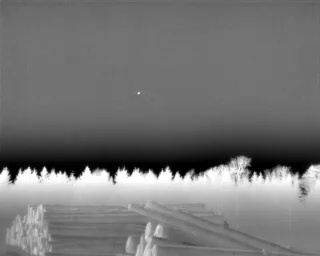BIRD: (135, 89, 142, 97)
